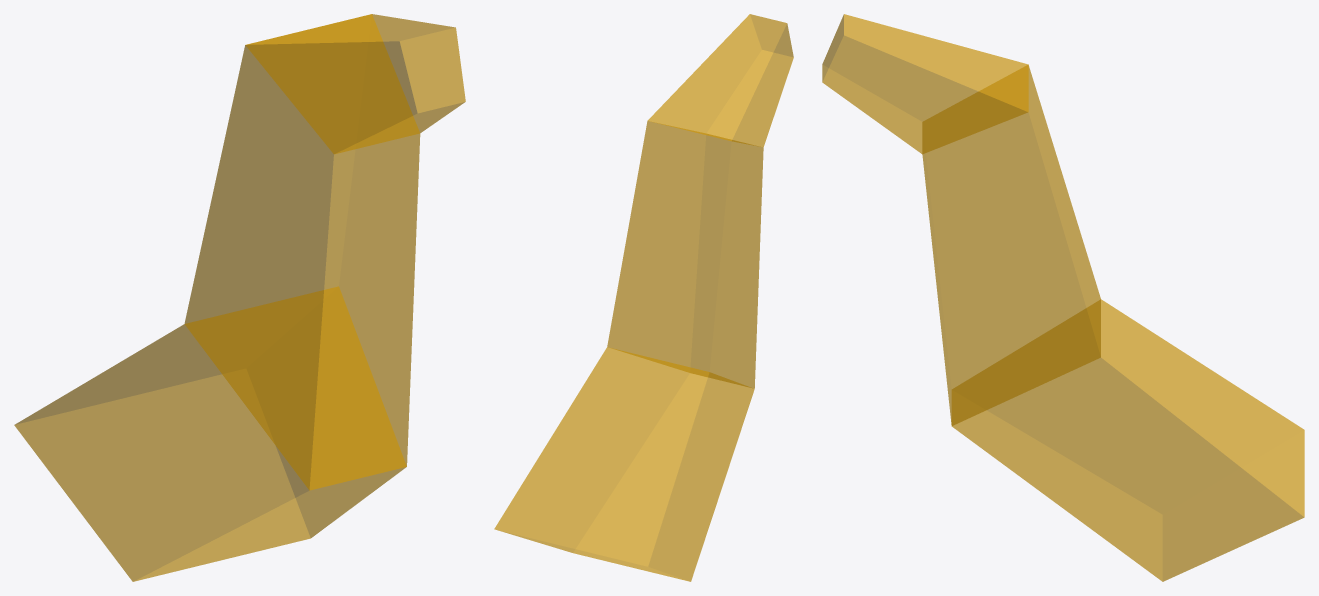
Rendered from SM_Veh_Ship_S_Figurehead_06_Collision.fbx.
The picture shows the model from 3 angles, left to right: view 1: azimuth 30°, elevation 25°; view 2: azimuth 150°, elevation 25°; view 3: azimuth 270°, elevation 25°; orthographic projection. The views are drawn at different scales.
Parts seen in each view (by area): view 1: SM_Veh_Ship_S_Figurehead_06_Collision; view 2: SM_Veh_Ship_S_Figurehead_06_Collision; view 3: SM_Veh_Ship_S_Figurehead_06_Collision.
Boxes of the visible parts, x1,y1,x2,y2 form: SM_Veh_Ship_S_Figurehead_06_Collision: (14,14,465,581); SM_Veh_Ship_S_Figurehead_06_Collision: (494,14,793,581); SM_Veh_Ship_S_Figurehead_06_Collision: (822,14,1304,581).
Bounding box in the file's own units: 146 × 406 × 339.
